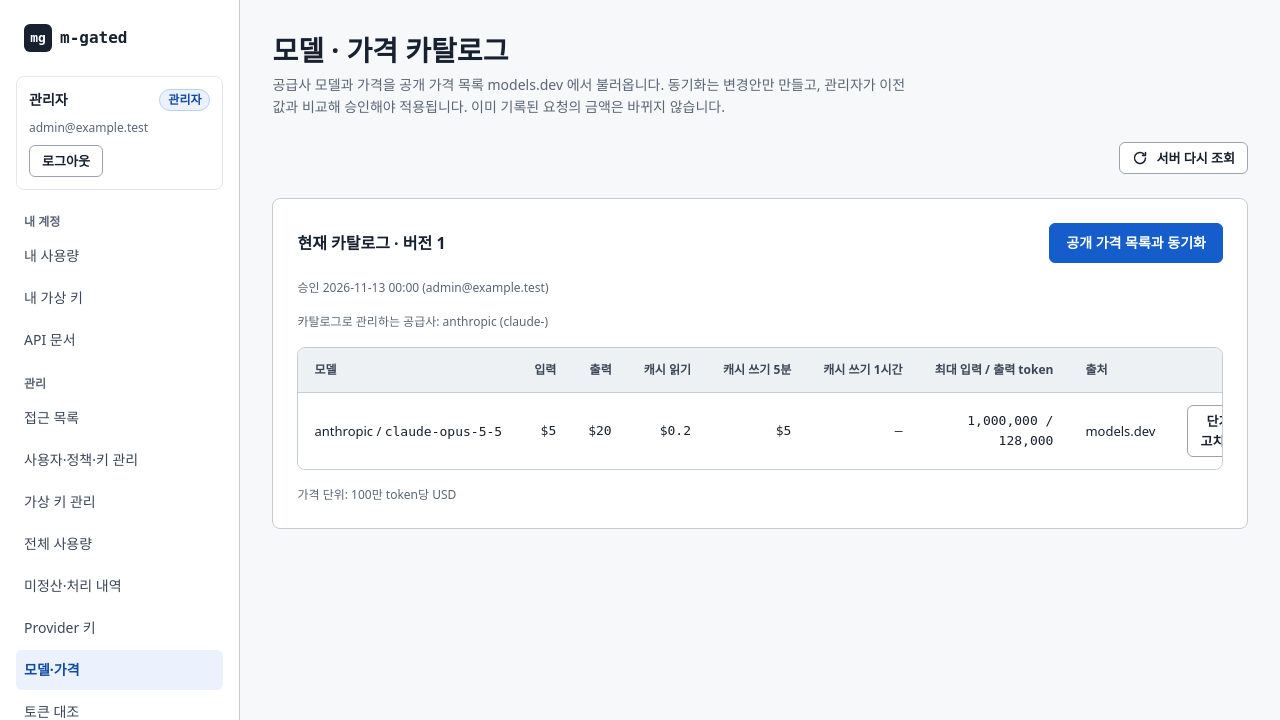
rates_form_sends_each_declared_category_and_an_empty_field_clears_the_rate
Expected: the column heading "캐시 쓰기 1시간" is shown, [807,348,919,392]
Click the button with aria-label "claude-opus-5-5 단가 고치기".
click(1218, 431)  # box [1188,405,1249,457]
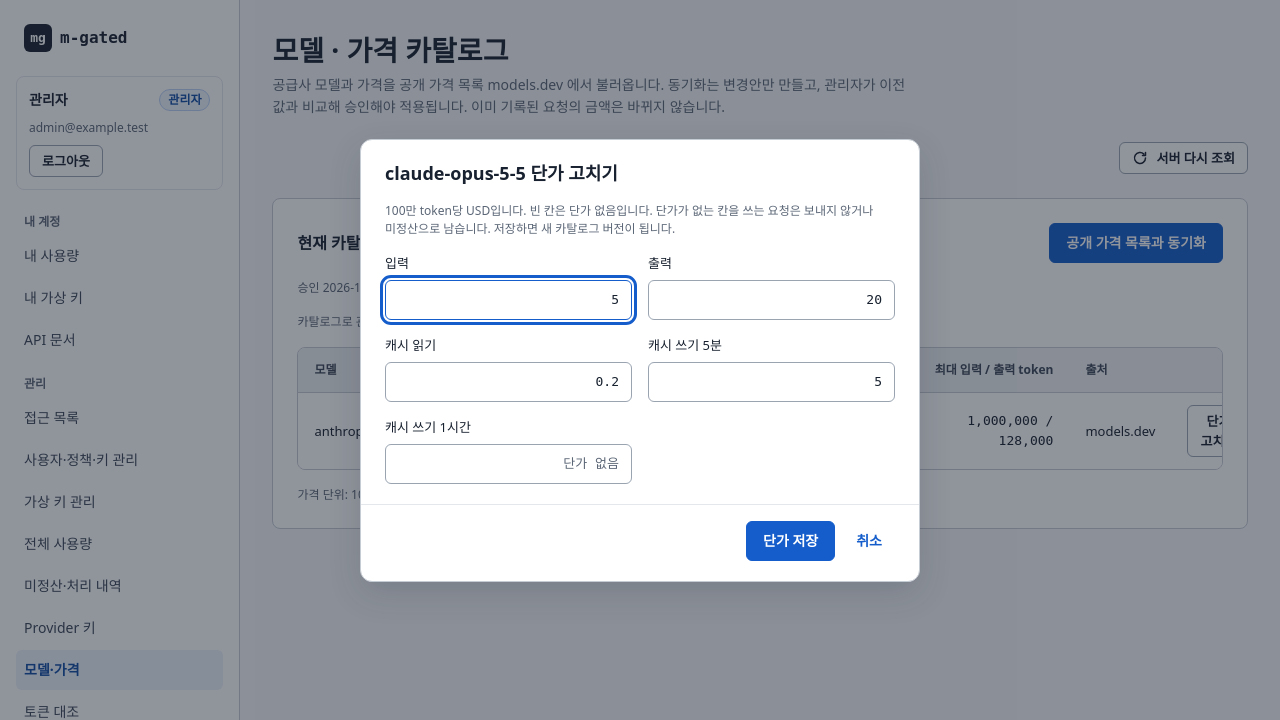
# 형식이 틀리면 보내지 않는다.
Type "1.2.3" into the field labelled "캐시 쓰기 1시간".
click(508, 464); type("1.2.3")  # box [385,444,632,484]
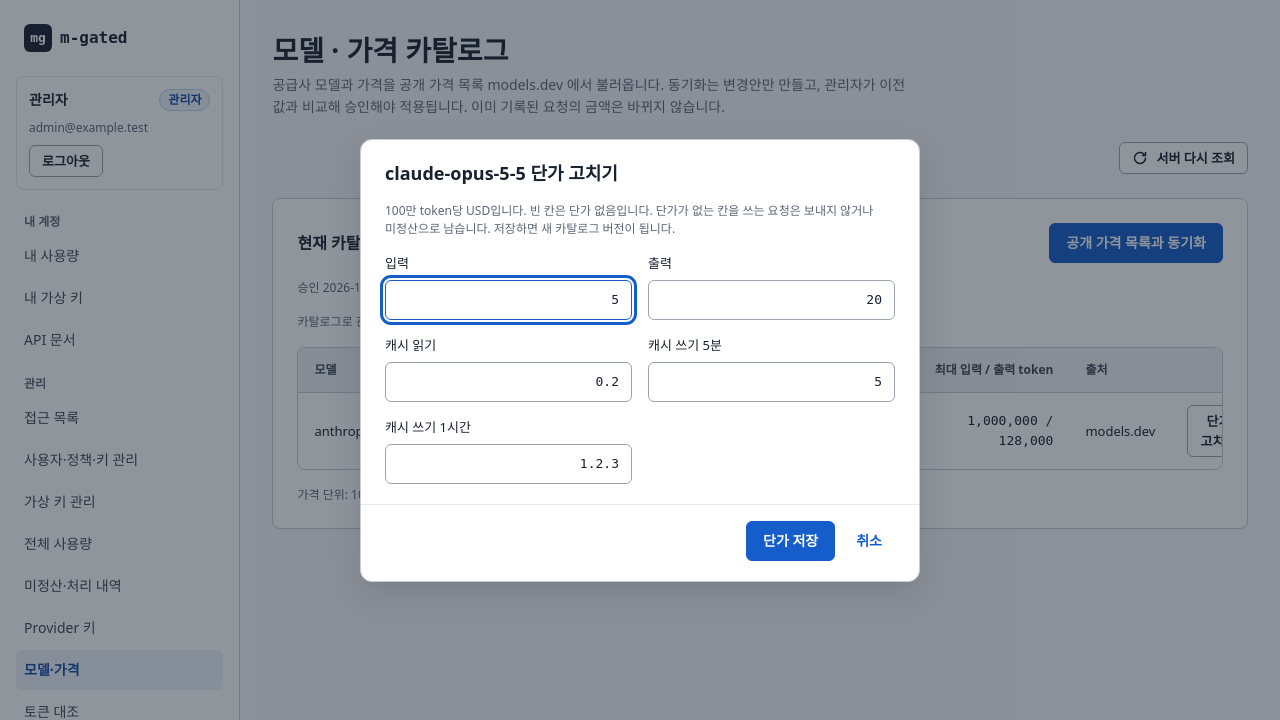
Click the button "단가 저장".
click(791, 540)  # box [746,520,835,560]
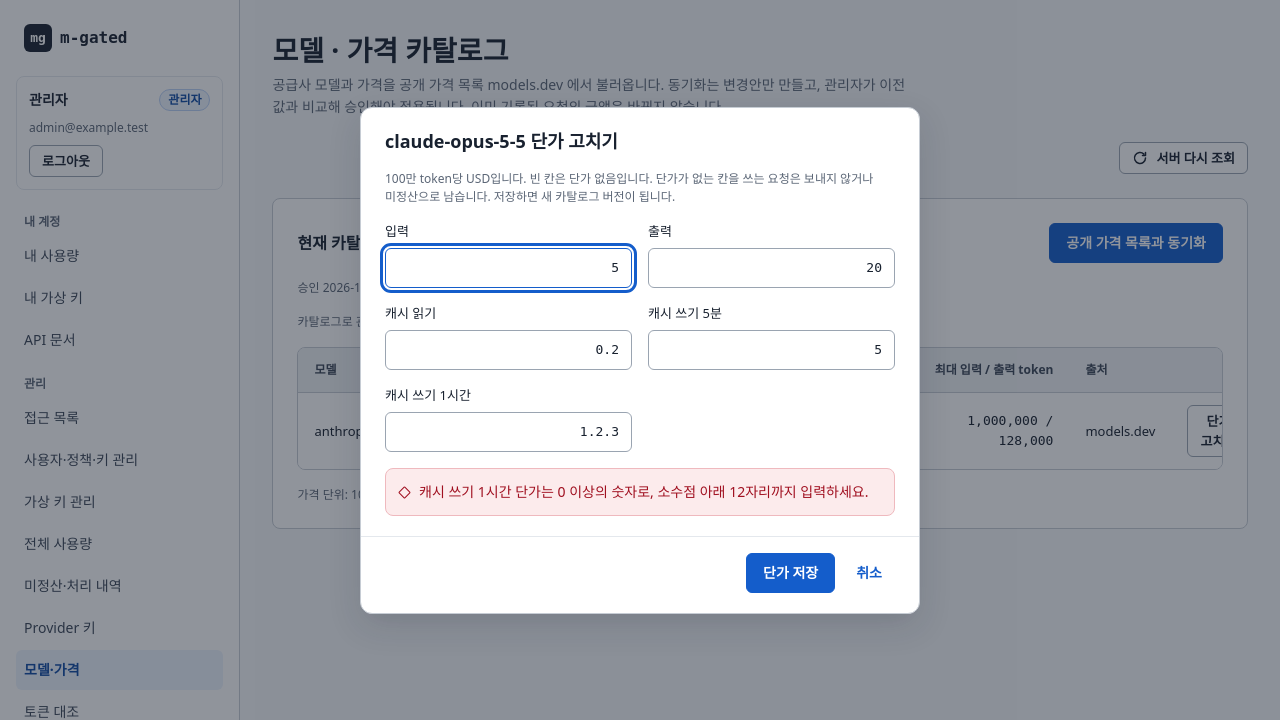
Result: the message shows "캐시 쓰기 1시간 단가는" at [419,482,868,500]
Replace the text in the field labelled "캐시 쓰기 1시간" with "8" at (508, 432), box [385,412,632,452]
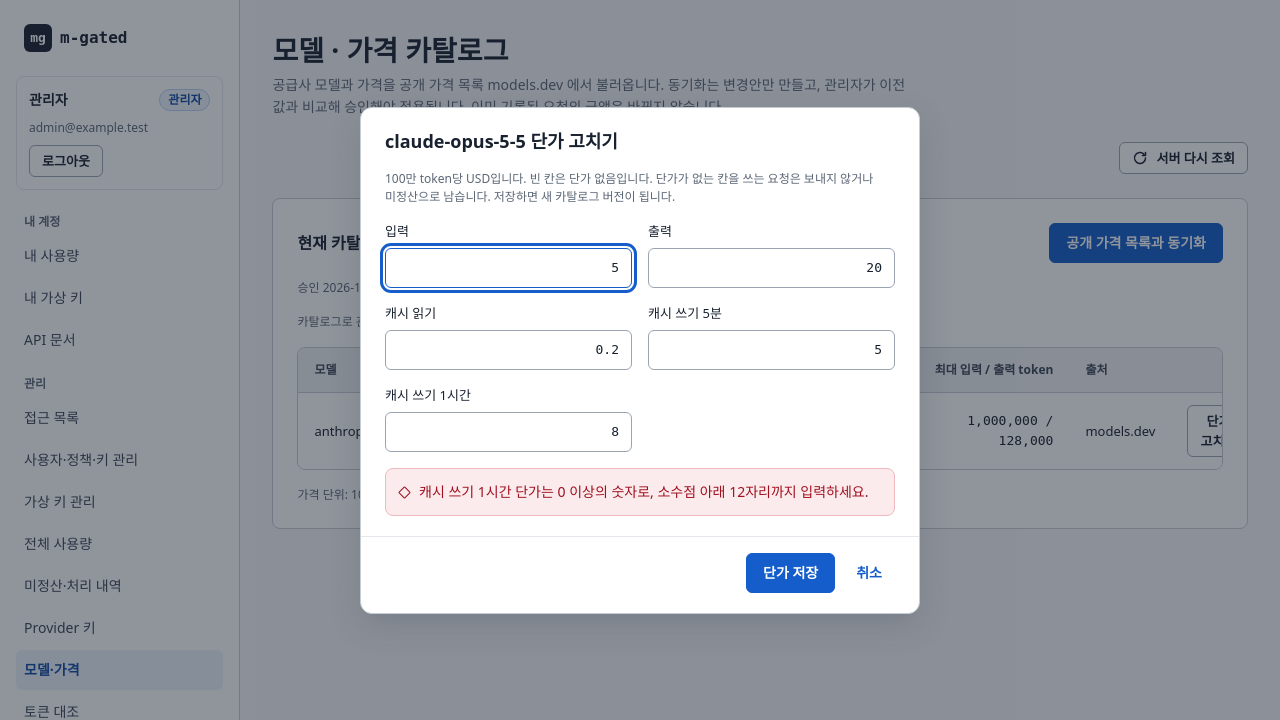
Clear the field labelled "캐시 읽기" at (508, 350), box [385,330,632,370]
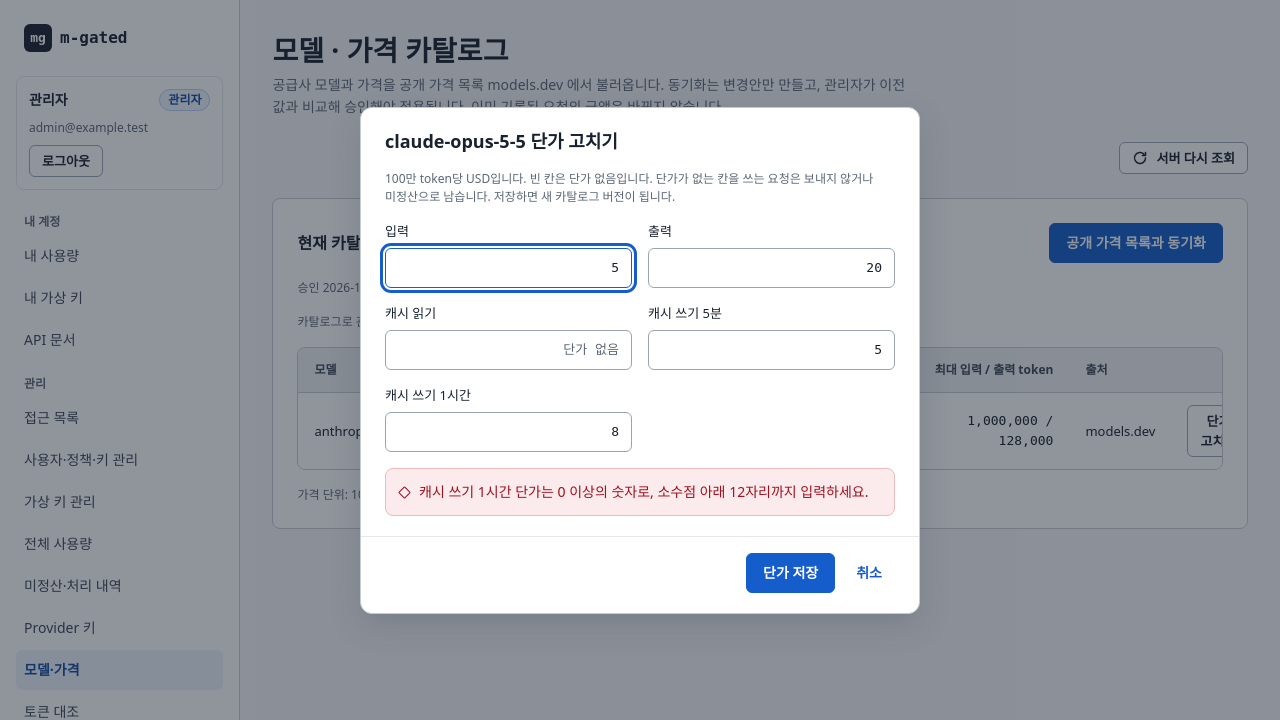
Click the button "단가 저장".
click(791, 572)  # box [746,552,835,592]
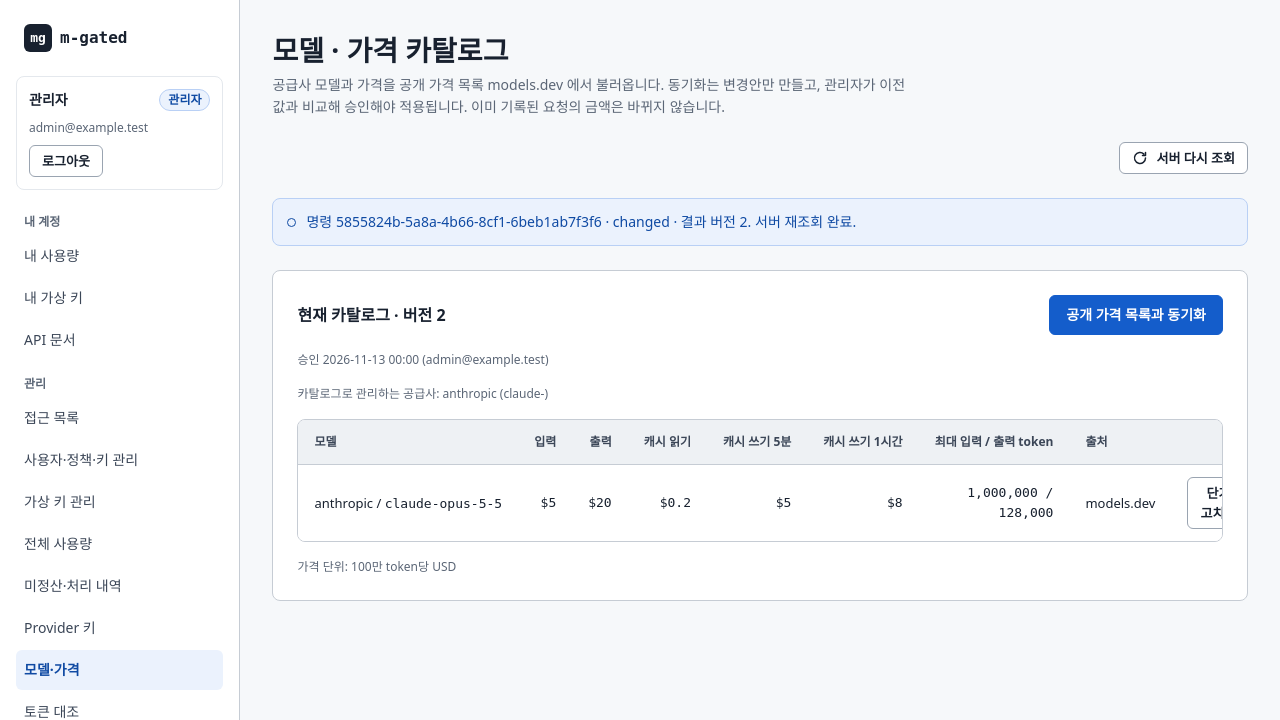
Result: the heading "현재 카탈로그 · 버전 2" is shown at [298,303,446,327]
